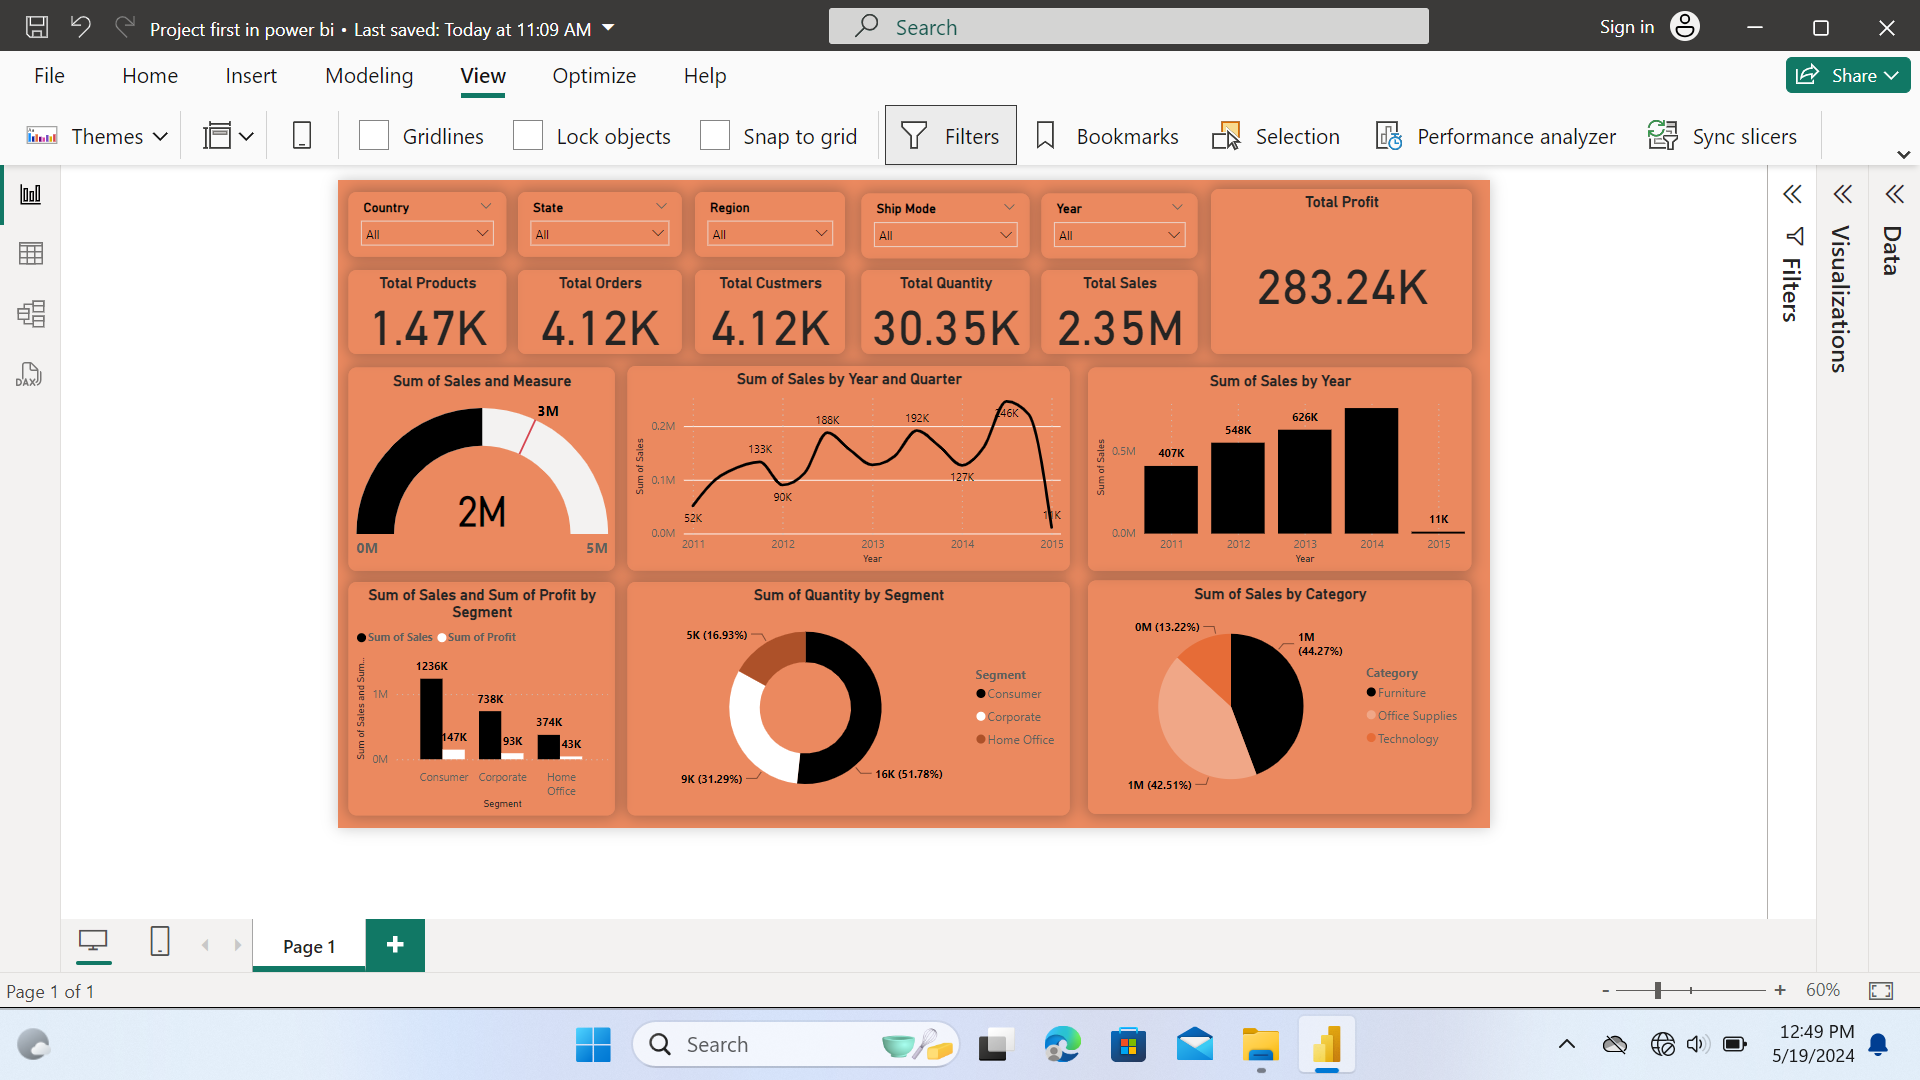

This screenshot's page, from the dashboard's own definition file:
{"tool":"powerbi","page":{"name":"Page 1","canvas":[1280,720],"ordinal":0},"visuals":[{"type":"slicer","fields":{"Values":["ListOfOrders1.Country"]},"box":[11.7,13.3,175,71.7],"z":0},{"type":"slicer","fields":{"Values":["ListOfOrders1.State"]},"box":[200,13.3,181.7,71.7],"z":1000},{"type":"slicer","fields":{"Values":["ListOfOrders1.Region"]},"box":[396.7,13.3,166.7,71.7],"z":2000},{"type":"slicer","fields":{"Values":["ListOfOrders1.Ship Mode"]},"box":[581.7,15,186.7,71.7],"z":3000},{"type":"slicer","fields":{"Values":["ListOfOrders1.Ship Date.Variation.Date Hierarchy.Year"]},"box":[781.7,15,173.3,71.7],"z":4000},{"type":"card","title":"Total Products","fields":{"Values":["Count(OrderBreakdown2.Product Name)"]},"box":[11.7,100,175,93.3],"z":5000},{"type":"card","title":"Total Orders","fields":{"Values":["CountNonNull(ListOfOrders1.Order ID)"]},"box":[200,100,181.7,93.3],"z":6000},{"type":"card","title":"Total Custmers","fields":{"Values":["CountNonNull(ListOfOrders1.Custmer Name)"]},"box":[396.7,100,166.7,93.3],"z":7000},{"type":"card","title":"Total Quantity","fields":{"Values":["Sum(OrderBreakdown2.Quantity)"]},"box":[581.7,100,186.7,93.3],"z":8000},{"type":"card","title":"Total Sales","fields":{"Values":["Sum(OrderBreakdown2.Sales)"]},"box":[781.7,100,173.3,93.3],"z":9000},{"type":"card","title":"Total Profit","fields":{"Values":["Sum(OrderBreakdown2.Profit)"]},"box":[970,10,290,183.3],"z":10000},{"type":"columnChart","fields":{"Category":["ListOfOrders1.Ship Date.Variation.Date Hierarchy.Year","ListOfOrders1.Ship Date.Variation.Date Hierarchy.Quarter"],"Y":["Sum(OrderBreakdown2.Sales)"]},"box":[833.5,208.4,426.3,225.9],"z":11000},{"type":"gauge","fields":{"Y":["Sum(OrderBreakdown2.Sales)"],"TargetValue":["ListOfOrders1.Measure"]},"box":[11.1,208.4,295.9,225.9],"z":12000},{"type":"lineChart","fields":{"Category":["ListOfOrders1.Ship Date.Variation.Date Hierarchy.Year","ListOfOrders1.Ship Date.Variation.Date Hierarchy.Quarter"],"Y":["Sum(OrderBreakdown2.Sales)"]},"box":[321.3,206.8,491.5,227.5],"z":13000},{"type":"clusteredColumnChart","fields":{"Category":["ListOfOrders1.Segment"],"Y":["Sum(OrderBreakdown2.Sales)","Sum(OrderBreakdown2.Profit)"]},"box":[11.1,447,295.9,259.3],"z":13001},{"type":"donutChart","fields":{"Category":["ListOfOrders1.Segment"],"Y":["Sum(OrderBreakdown2.Quantity)"]},"box":[321,447,491,259],"z":13002},{"type":"pieChart","fields":{"Category":["OrderBreakdown2.Category"],"Y":["Sum(OrderBreakdown2.Sales)"]},"box":[833.5,445.4,426.3,259.3],"z":13003}]}

Visuals, with their boxes on the page's 1280x720 design canvas (x1, y1, x2, y2). These are canvas units, not pixel positions in the 1920x1080 screenshot, which may show the page scaled, cropped or inside an application window:
slicer - ListOfOrders1.Country: 12/13/187/85
slicer - ListOfOrders1.State: 200/13/382/85
slicer - ListOfOrders1.Region: 397/13/563/85
slicer - ListOfOrders1.Ship Mode: 582/15/768/87
slicer - ListOfOrders1.Ship Date.Variation.Date Hierarchy.Year: 782/15/955/87
"Total Products" card: 12/100/187/193
"Total Orders" card: 200/100/382/193
"Total Custmers" card: 397/100/563/193
"Total Quantity" card: 582/100/768/193
"Total Sales" card: 782/100/955/193
"Total Profit" card: 970/10/1260/193
columnChart - ListOfOrders1.Ship Date.Variation.Date Hierarchy.Year x ListOfOrders1.Ship Date.Variation.Date Hierarchy.Quarter: 834/208/1260/434
gauge - Sum(OrderBreakdown2.Sales) x ListOfOrders1.Measure: 11/208/307/434
lineChart - ListOfOrders1.Ship Date.Variation.Date Hierarchy.Year x ListOfOrders1.Ship Date.Variation.Date Hierarchy.Quarter: 321/207/813/434
clusteredColumnChart - ListOfOrders1.Segment x Sum(OrderBreakdown2.Sales): 11/447/307/706
donutChart - ListOfOrders1.Segment x Sum(OrderBreakdown2.Quantity): 321/447/812/706
pieChart - OrderBreakdown2.Category x Sum(OrderBreakdown2.Sales): 834/445/1260/705
